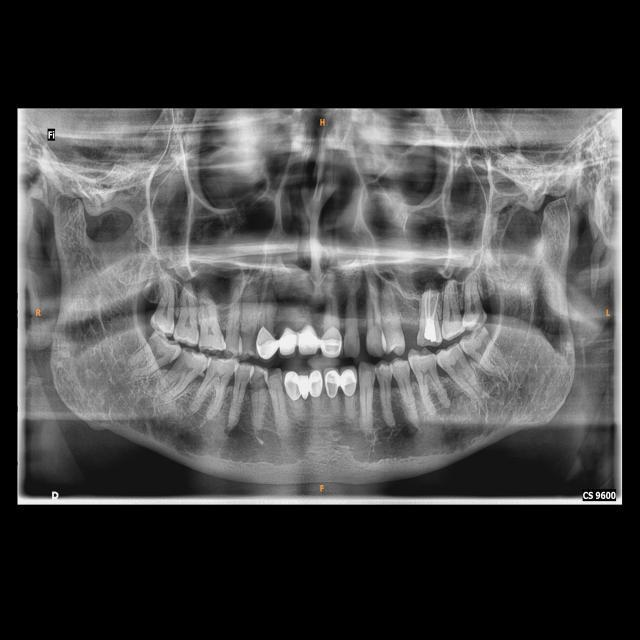dolgu: (416, 318, 443, 348)
kanal-tedavisi: (419, 286, 441, 320)
kaplama: (280, 367, 302, 405), (256, 327, 278, 359), (339, 365, 358, 401), (320, 327, 342, 358), (324, 364, 341, 400), (305, 371, 324, 401)
kok-enfeksiyonu: (378, 413, 419, 443)
kopru: (280, 319, 319, 362)
